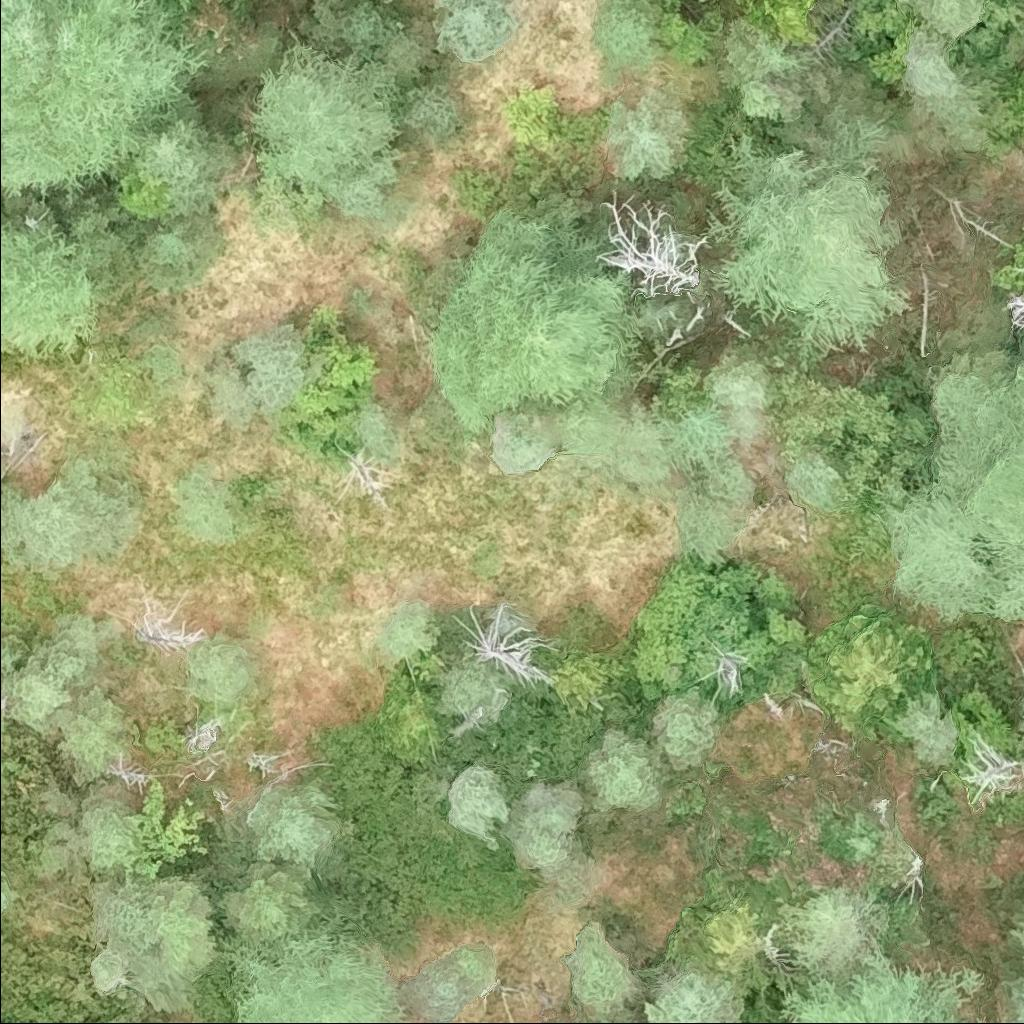crown: (708, 114, 909, 373), (435, 209, 640, 439), (0, 0, 209, 189), (881, 366, 1023, 622), (254, 28, 406, 218), (811, 605, 943, 743), (220, 927, 401, 1023), (778, 945, 987, 1023), (22, 452, 141, 565), (0, 217, 91, 355), (905, 30, 1009, 149), (594, 191, 711, 296), (681, 879, 780, 986), (773, 887, 889, 974), (8, 617, 94, 730), (452, 603, 563, 686), (248, 779, 342, 870), (382, 650, 450, 767), (224, 859, 315, 946), (607, 95, 695, 182), (150, 875, 217, 989), (505, 783, 583, 874), (230, 321, 309, 410), (55, 687, 133, 776), (170, 459, 247, 548), (653, 404, 737, 484), (562, 922, 636, 1010), (590, 728, 665, 812), (674, 484, 746, 565), (594, 0, 665, 81), (449, 761, 511, 850), (401, 956, 481, 1023), (433, 0, 518, 63), (653, 692, 719, 771), (645, 971, 744, 1023), (182, 637, 259, 703), (705, 343, 772, 409), (376, 600, 440, 666), (493, 414, 559, 478), (84, 802, 143, 872), (441, 667, 510, 723), (903, 0, 983, 38), (179, 0, 246, 40), (0, 635, 29, 674), (1005, 266, 1023, 326), (0, 868, 11, 925), (1010, 915, 1023, 951), (1011, 985, 1023, 1023), (1016, 736, 1023, 753), (1019, 717, 1023, 730), (976, 1019, 988, 1023), (701, 0, 713, 2)
